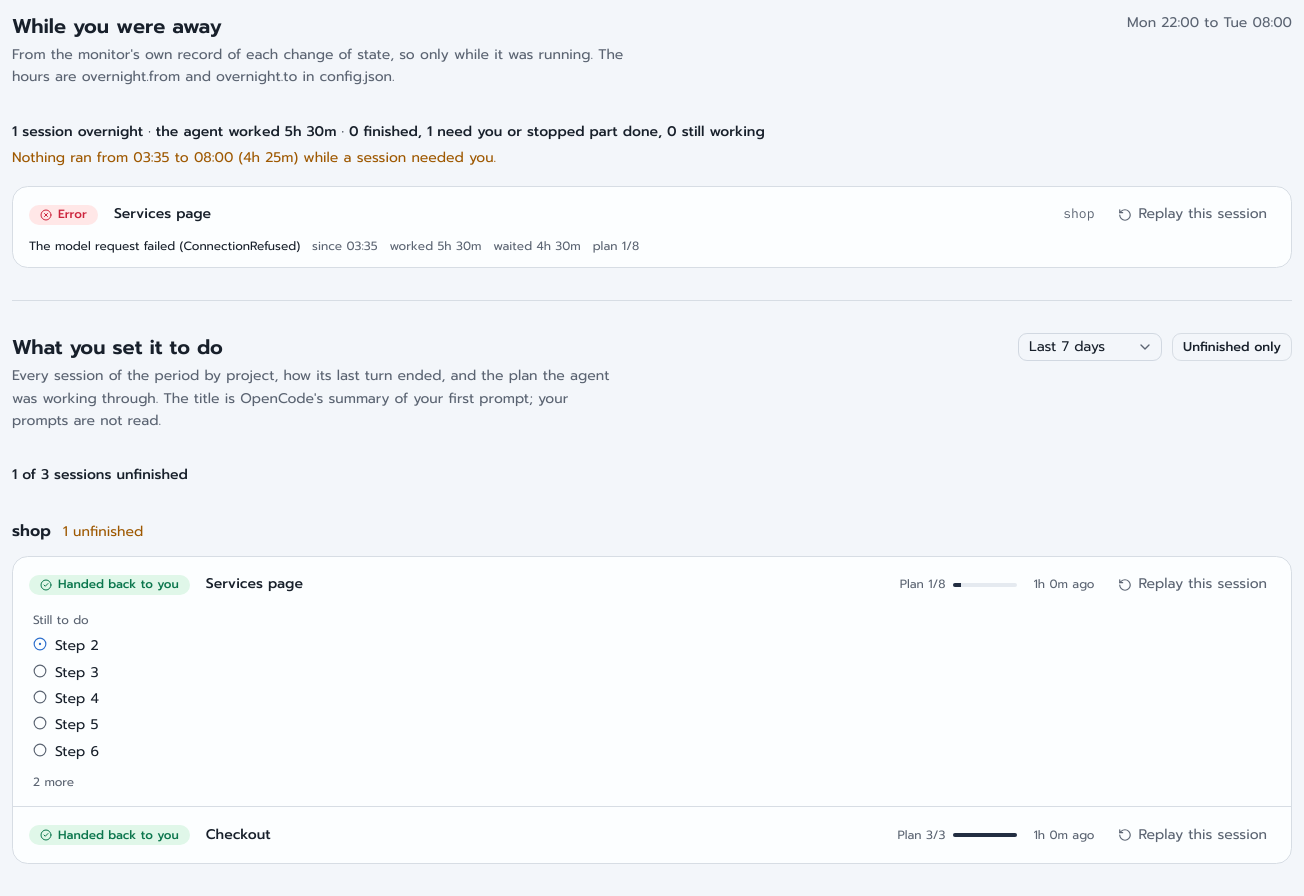
Tasks › can show only what is unfinished
The image size is (1304, 896).
Check: the text "Services page" below "1 unfinished" is shown, box x1=206 y1=573 x2=303 y2=594
Step 1. Click the button "Unfinished only" → (1232, 347), box x1=1172 y1=333 x2=1292 y2=361
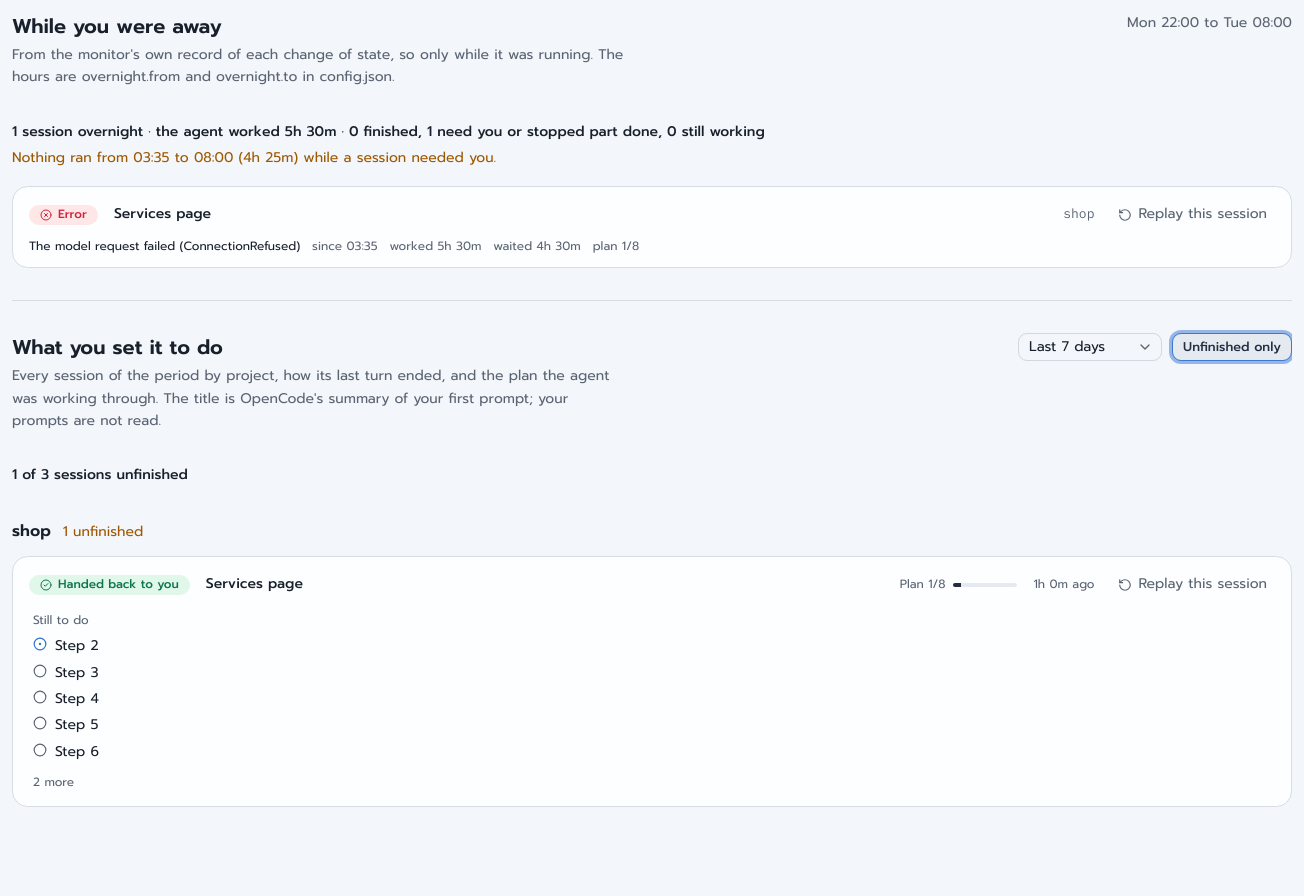
Check: the text "Services page" next to "Handed back to you" is shown, box x1=206 y1=573 x2=303 y2=594
Check: the text "Checkout" is gone
